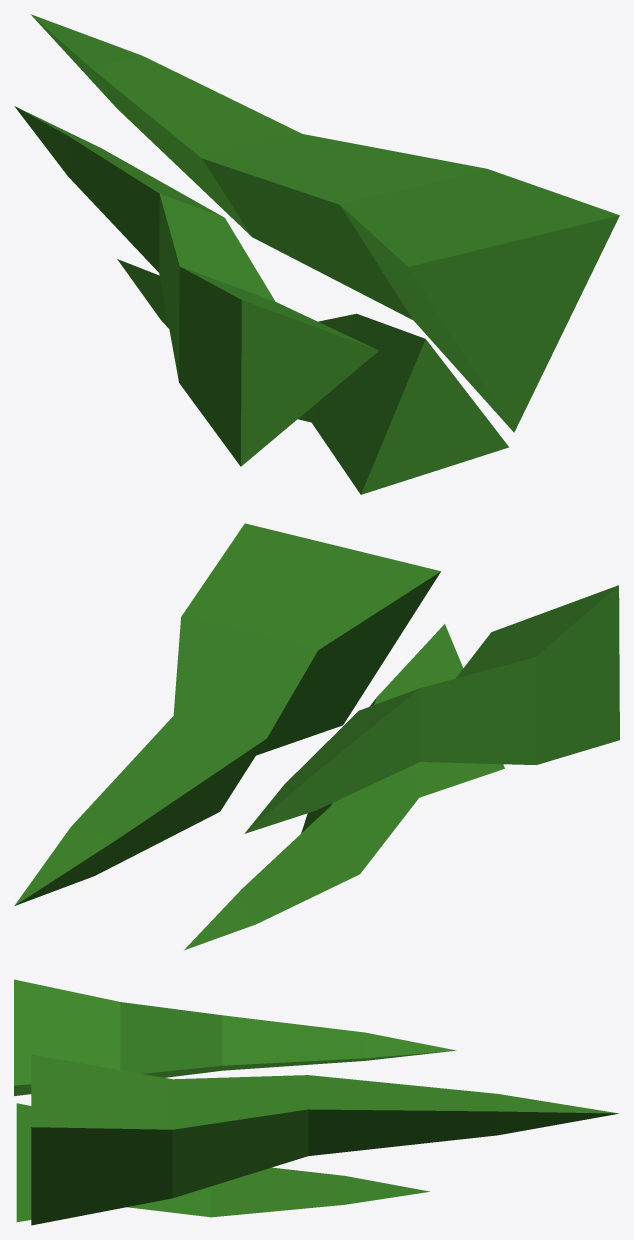
Rendered from pasto_1.fbx.
3 renders of one model, top to bottom at view 1: azimuth 30°, elevation 25°; view 2: azimuth 150°, elevation 25°; view 3: azimuth 270°, elevation 25°, orthographic. The views are drawn at different scales.
Visible parts, largest first — view 1: Pasto; view 2: Pasto; view 3: Pasto.
Boxes of the visible parts, x1=… form: Pasto: x1=14, y1=14, x2=619, y2=494; Pasto: x1=14, y1=523, x2=619, y2=950; Pasto: x1=14, y1=979, x2=618, y2=1225.
Bounding box in the file's own units: 20.63 × 12.2 × 39.38.
